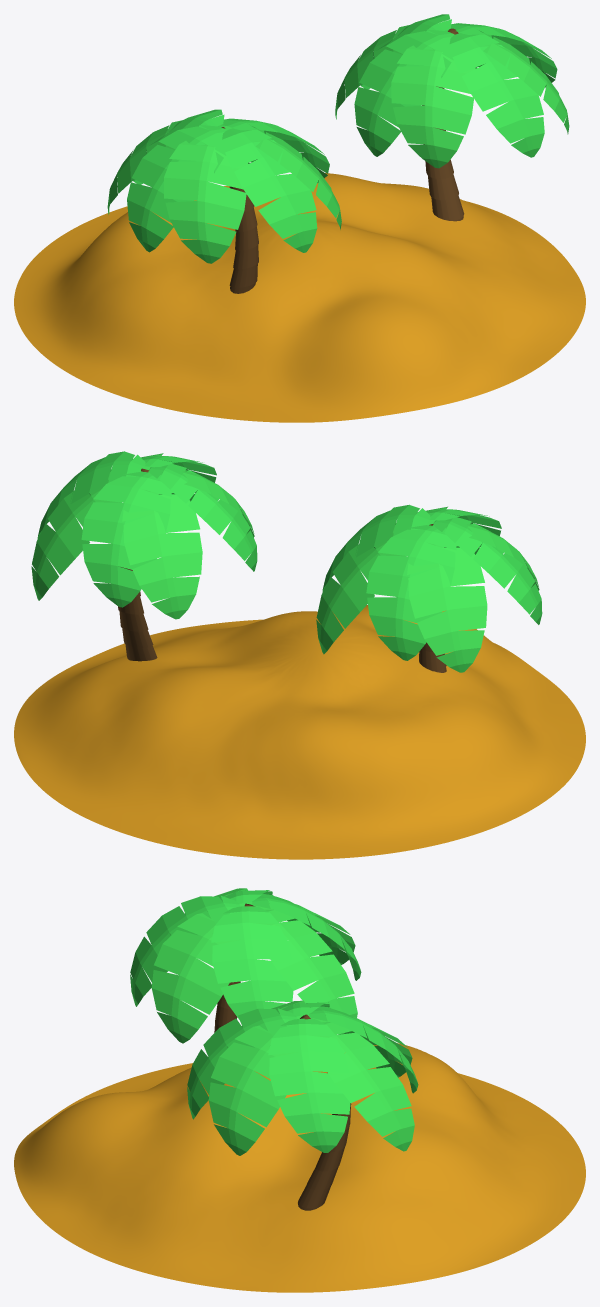
Rendered from islandfinal.glb.
3 views of the same model, one above another, from view 1: azimuth 30°, elevation 25°; view 2: azimuth 150°, elevation 25°; view 3: azimuth 270°, elevation 25° (orthographic).
Visible parts, largest first — view 1: island, leaves.001, leaves.003, leaves.002, leaves, tree.001, tree; view 2: island, leaves.001, leaves.003, leaves.002, leaves, tree; view 3: island, leaves.001, leaves, leaves.003, leaves.002, tree.
Boxes of the visible parts, <box> form: island: <box>14,173,585,422</box>; leaves.001: <box>354,14,557,157</box>; leaves.003: <box>127,109,329,252</box>; leaves.002: <box>107,120,341,263</box>; leaves: <box>335,25,569,168</box>; tree.001: <box>221,127,258,293</box>; tree: <box>422,28,464,221</box>; island: <box>14,605,585,859</box>; leaves.001: <box>37,451,257,607</box>; leaves.003: <box>322,504,542,660</box>; leaves.002: <box>316,506,539,672</box>; leaves: <box>31,453,254,619</box>; tree: <box>118,468,157,661</box>; island: <box>14,1043,585,1292</box>; leaves.001: <box>187,1002,418,1152</box>; leaves: <box>208,1000,414,1155</box>; leaves.003: <box>130,890,361,1019</box>; leaves.002: <box>151,888,357,1043</box>; tree: <box>298,1014,351,1210</box>.
Size of the model in its own units: 5 by 2.23 by 4.97.
4 materials, 2 textured.
